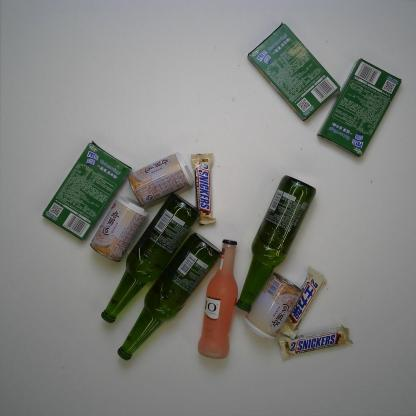Alcohol: (116, 233, 222, 362), (100, 192, 202, 324), (235, 174, 317, 314), (196, 239, 238, 359)
Canned Food: (243, 272, 304, 340), (89, 195, 150, 263), (128, 152, 195, 206)
Chocolate: (280, 267, 327, 340), (278, 325, 354, 362), (189, 153, 218, 226)
Dessert: (246, 22, 341, 121), (40, 141, 132, 241), (316, 58, 403, 158)
